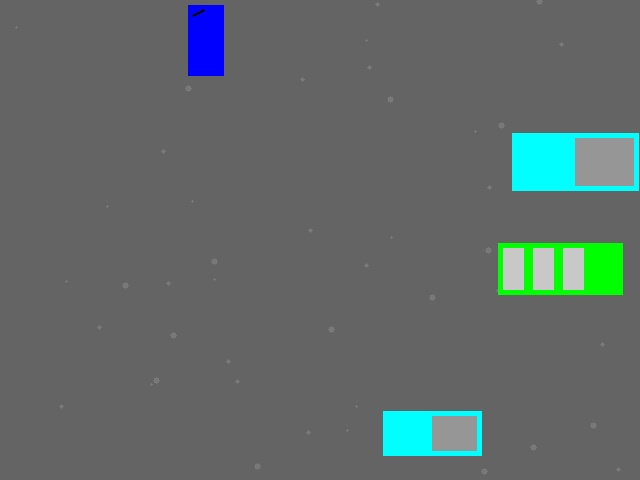bus: (498, 243, 622, 294)
motorcycle: (188, 5, 223, 75)
truck: (512, 133, 638, 190), (383, 411, 481, 455)
